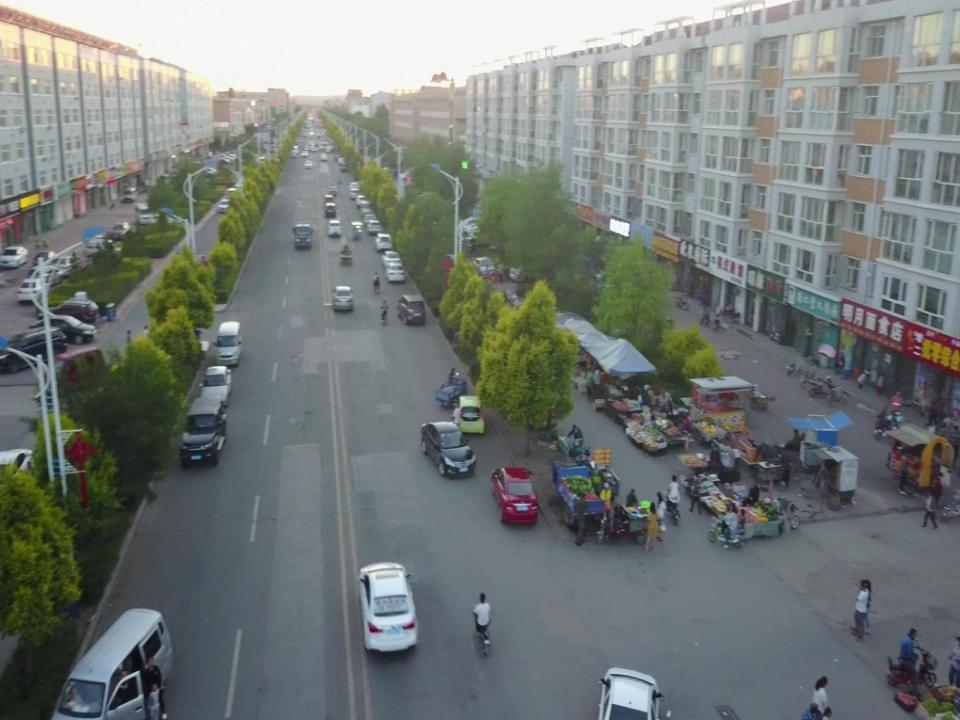car: (358, 562, 419, 651), (592, 667, 662, 720), (417, 419, 477, 478), (490, 462, 541, 522), (180, 396, 224, 463), (31, 314, 97, 344), (41, 298, 99, 323), (201, 364, 232, 404), (0, 447, 33, 481), (458, 393, 484, 434), (396, 295, 426, 326), (330, 280, 358, 312), (17, 276, 44, 304), (29, 264, 63, 284), (30, 250, 58, 270), (1, 246, 27, 266), (292, 222, 312, 248), (50, 255, 79, 272), (385, 260, 406, 283), (84, 241, 110, 259), (108, 220, 132, 238), (381, 250, 403, 268), (375, 231, 393, 250), (88, 234, 112, 248), (328, 218, 342, 238), (216, 198, 233, 214), (361, 212, 378, 228), (323, 203, 338, 221), (322, 194, 336, 212), (367, 219, 383, 234), (326, 185, 338, 198), (356, 195, 368, 207), (349, 188, 360, 199), (348, 180, 361, 189)
van: (50, 600, 174, 720), (48, 345, 106, 401), (0, 325, 66, 371), (212, 318, 243, 367), (135, 199, 153, 225), (122, 186, 138, 202), (358, 201, 374, 214)
